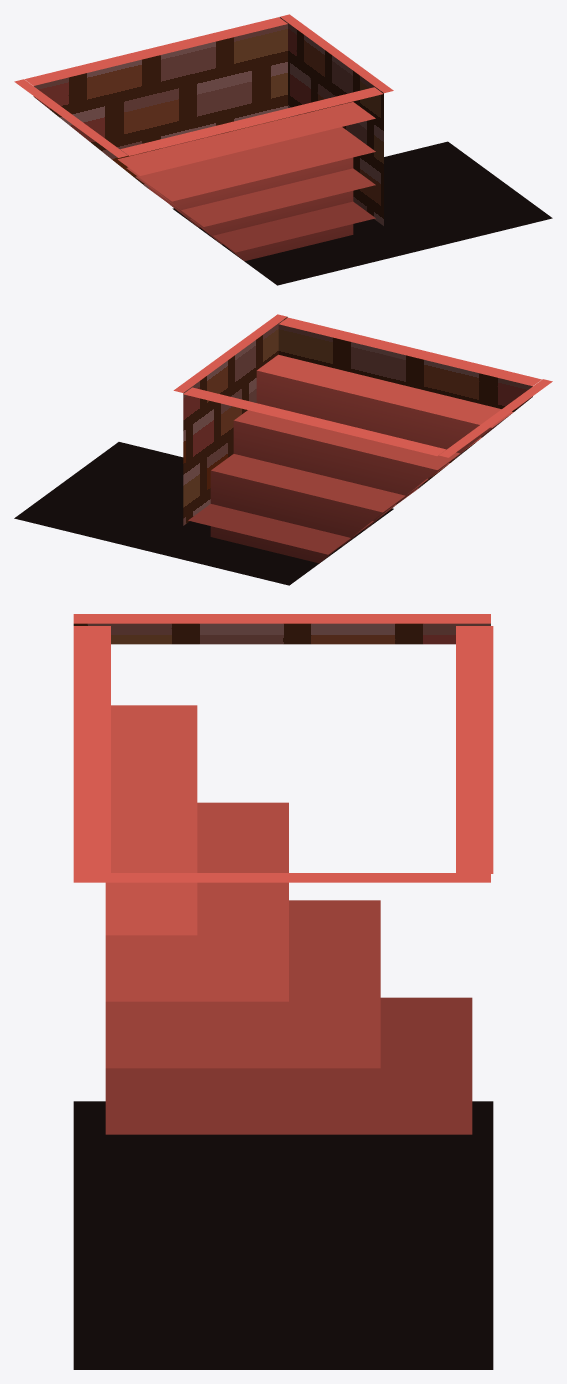
Rendered from stairs-down.glb.
The picture shows the model from 3 angles, top to bottom: view 1: azimuth 30°, elevation 25°; view 2: azimuth 150°, elevation 25°; view 3: azimuth 270°, elevation 25°; orthographic projection. The views are drawn at different scales.
Size of the model in its own units: 10.94 by 4 by 4.58.
Materials: 1 (1 with a texture image).
